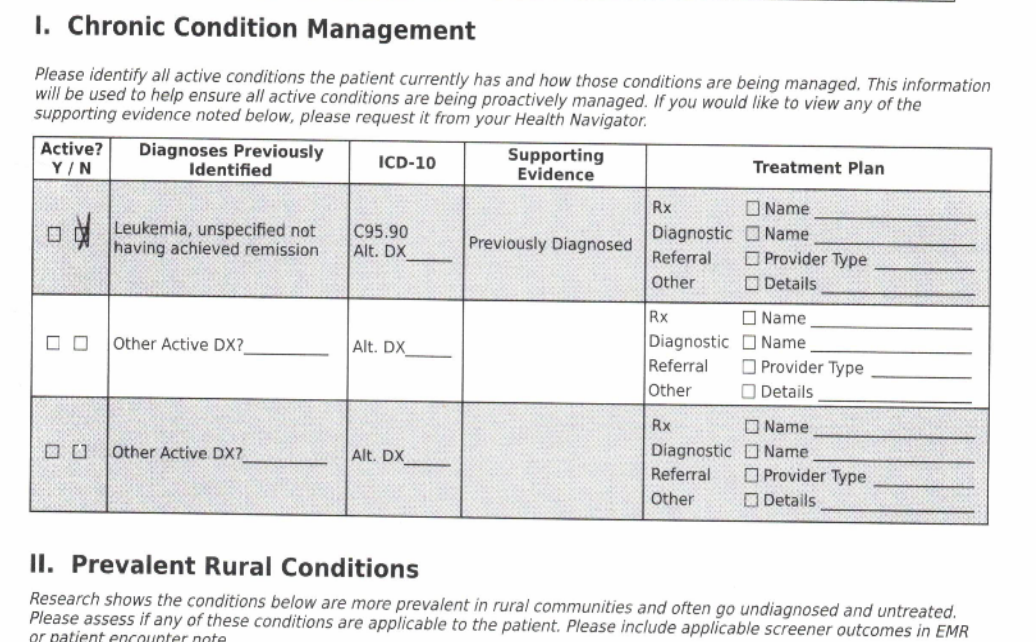checked: (71, 207, 98, 259)
